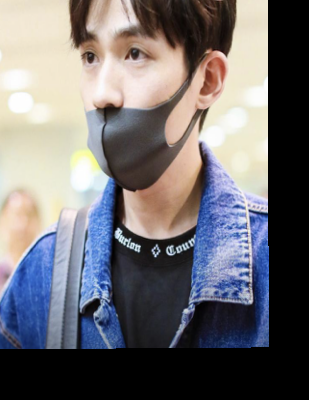mask_weared_incorrect: (52, 2, 249, 191)
